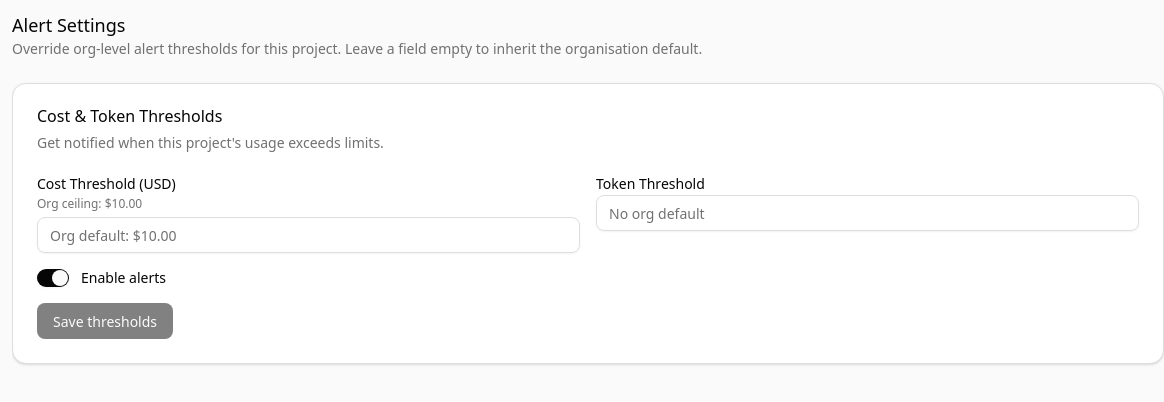
ProjectAlertsSection › shows error and highlights input when cost exceeds org ceiling
Type "20" into the number field labelled "Cost Threshold (USD)" at (308, 235), box [37, 217, 580, 253]
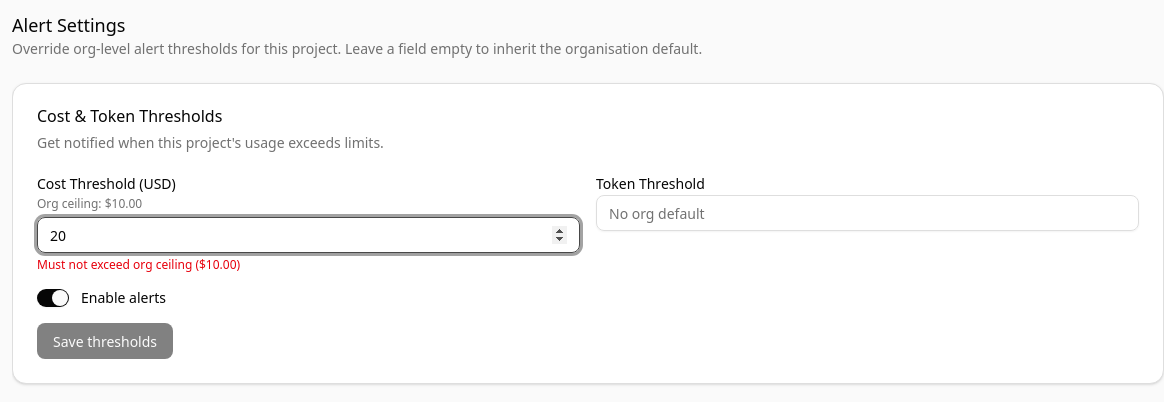
Expected: the text "Must not exceed org ceiling ($10.00)" is shown, [37, 256, 240, 273]
